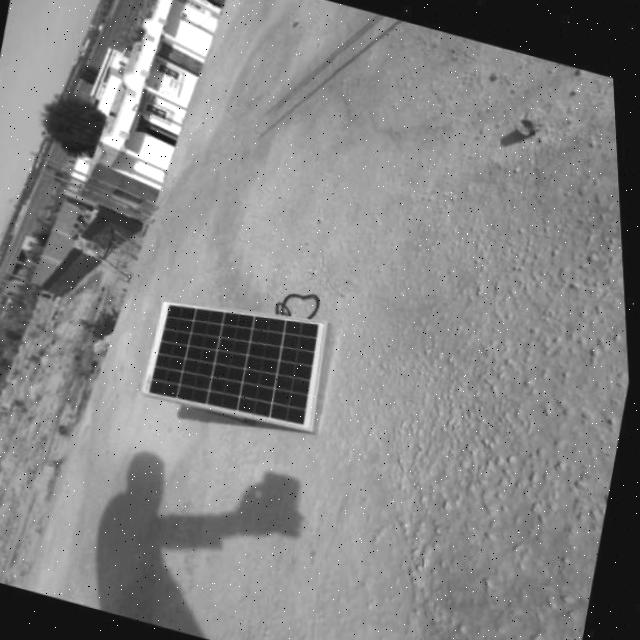Normal Solar Panel: (138, 276, 340, 438)
